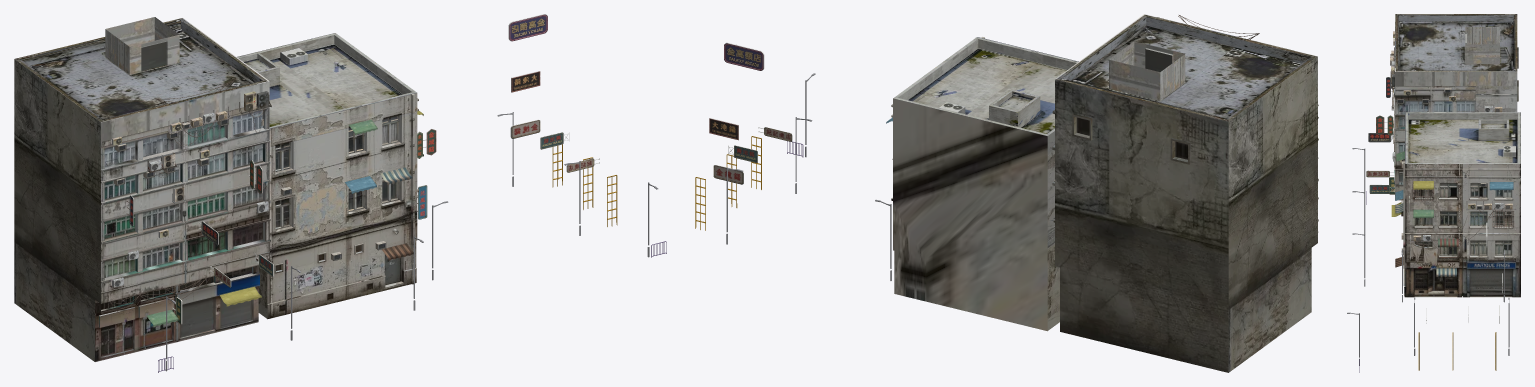
File: block-hkiv-1.glb
3 renders of one model, left to right at view 1: azimuth 30°, elevation 25°; view 2: azimuth 150°, elevation 25°; view 3: azimuth 270°, elevation 25°, orthographic. The views are drawn at different scales.
Visible parts, largest first — view 1: Object_332, Object_305, Object_307, Object_334, Object_333, Object_304, Object_202, Object_203, Object_313, Object_568, Object_306, Object_312; view 2: Object_307, Object_305, Object_334, Object_304, Object_332, Object_202, Object_203; view 3: Object_305, Object_332, Object_304, Object_334, Object_306, Object_203, Object_568, Object_202, Object_313, Object_333, Object_311, Object_312.
Boxes of the visible parts, x1,y1,x2,y2 form: Object_332: [95, 17, 270, 361]; Object_305: [267, 63, 418, 318]; Object_307: [14, 59, 267, 361]; Object_334: [14, 18, 269, 122]; Object_333: [101, 110, 262, 309]; Object_304: [237, 33, 416, 128]; Object_202: [129, 14, 594, 324]; Object_203: [110, 14, 666, 372]; Object_313: [112, 91, 417, 287]; Object_568: [146, 111, 423, 326]; Object_306: [275, 116, 397, 227]; Object_312: [113, 119, 386, 260]; Object_307: [1047, 56, 1318, 372]; Object_305: [891, 37, 1047, 331]; Object_334: [1055, 14, 1317, 121]; Object_304: [893, 37, 1078, 136]; Object_332: [1052, 41, 1318, 197]; Object_202: [709, 43, 792, 184]; Object_203: [695, 15, 1259, 280]; Object_305: [1402, 112, 1520, 297]; Object_332: [1394, 27, 1517, 216]; Object_304: [1405, 112, 1520, 163]; Object_334: [1395, 14, 1517, 71]; Object_306: [1410, 183, 1511, 261]; Object_203: [1347, 27, 1509, 372]; Object_568: [1391, 151, 1513, 276]; Object_202: [1366, 77, 1502, 289]; Object_313: [1390, 31, 1516, 241]; Object_333: [1399, 101, 1475, 182]; Object_311: [1413, 184, 1513, 227]; Object_312: [1390, 39, 1486, 254].
Size of the model in its own units: 70 by 32.85 by 27.61.
Materials: 13 (13 with a texture image).
